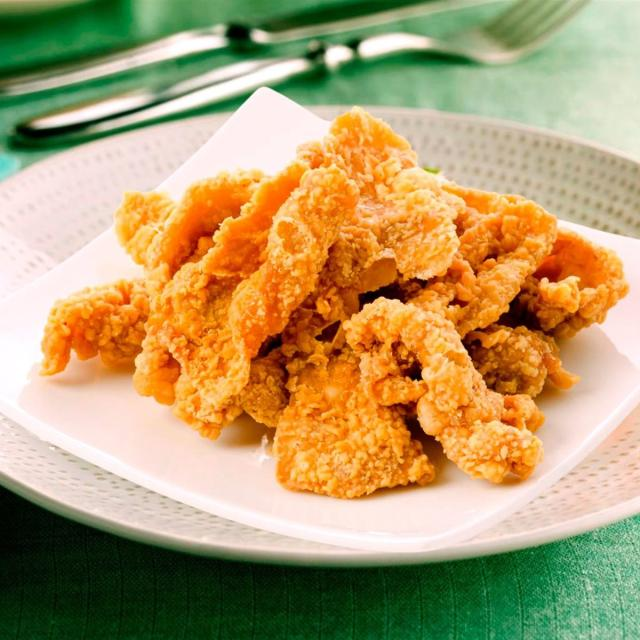pollo: (43, 108, 623, 509)
